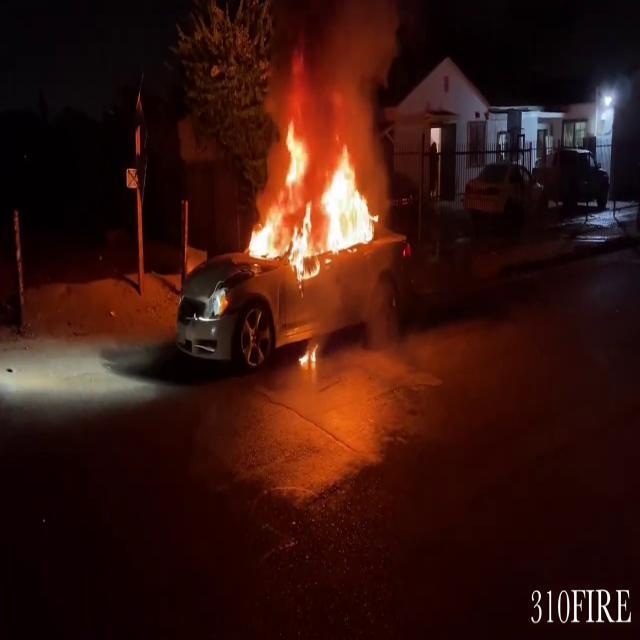Fire: (242, 104, 384, 272), (297, 338, 319, 373)
Smoke: (268, 0, 406, 143)
